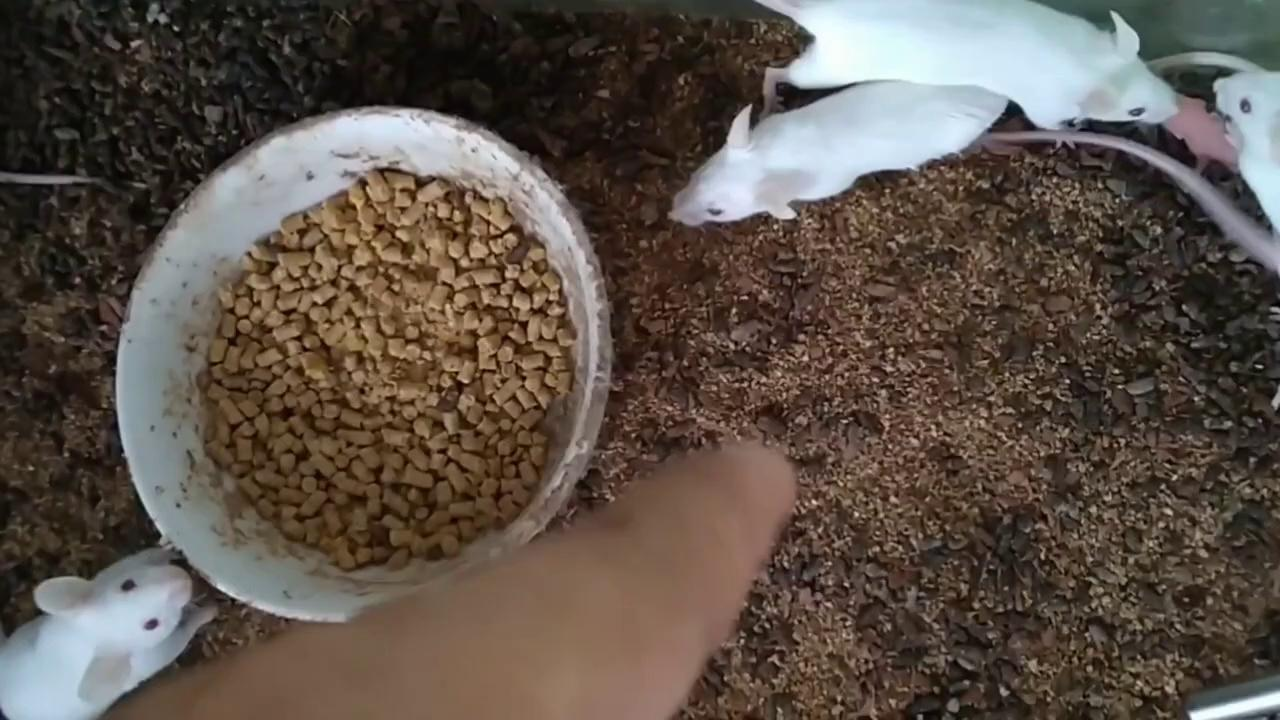rat: (755, 0, 1181, 148), (669, 82, 1006, 226), (0, 533, 219, 720), (1214, 70, 1280, 271)
